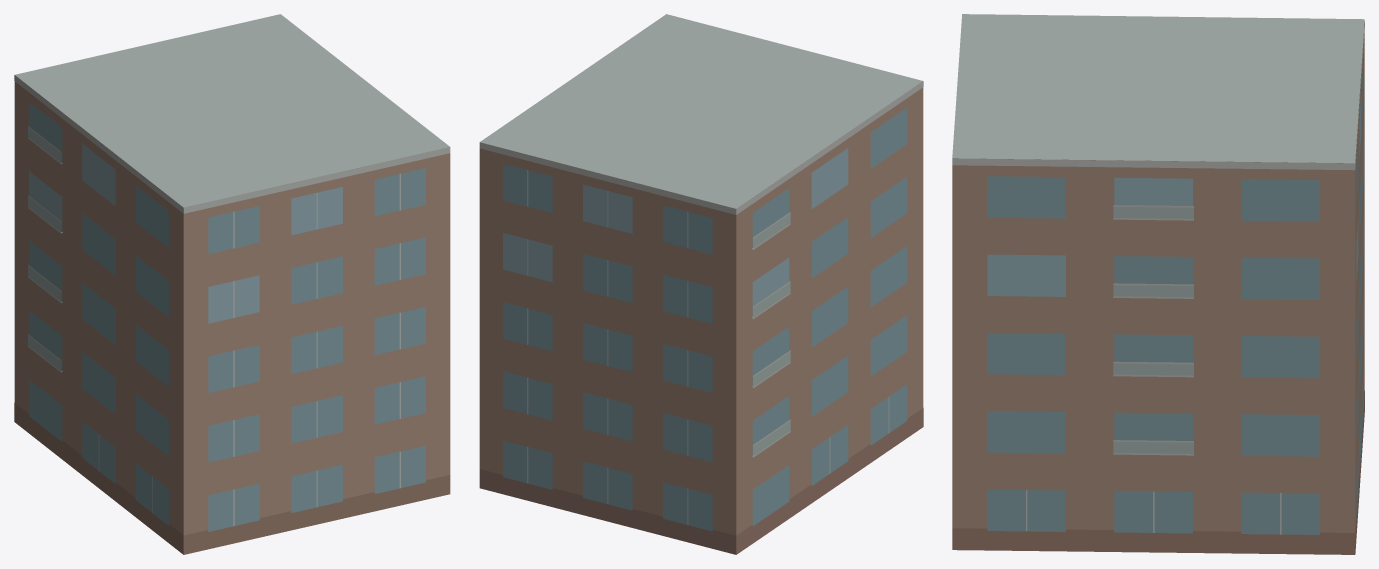
File: survey-upis-32880408.glb
3 views of the same model, side by side, from view 1: azimuth 30°, elevation 25°; view 2: azimuth 150°, elevation 25°; view 3: azimuth 270°, elevation 25° (orthographic). The views are drawn at different scales.
Visible parts, largest first — view 1: survey-upis-32880408.tmp; view 2: survey-upis-32880408.tmp; view 3: survey-upis-32880408.tmp.
Boxes of the visible parts, box(x1,y1,x2,y2) form: survey-upis-32880408.tmp: box(14, 14, 450, 554); survey-upis-32880408.tmp: box(479, 14, 923, 554); survey-upis-32880408.tmp: box(952, 14, 1364, 554).
Bounding box in the file's own units: 11.29 × 13.8 × 13.19.
